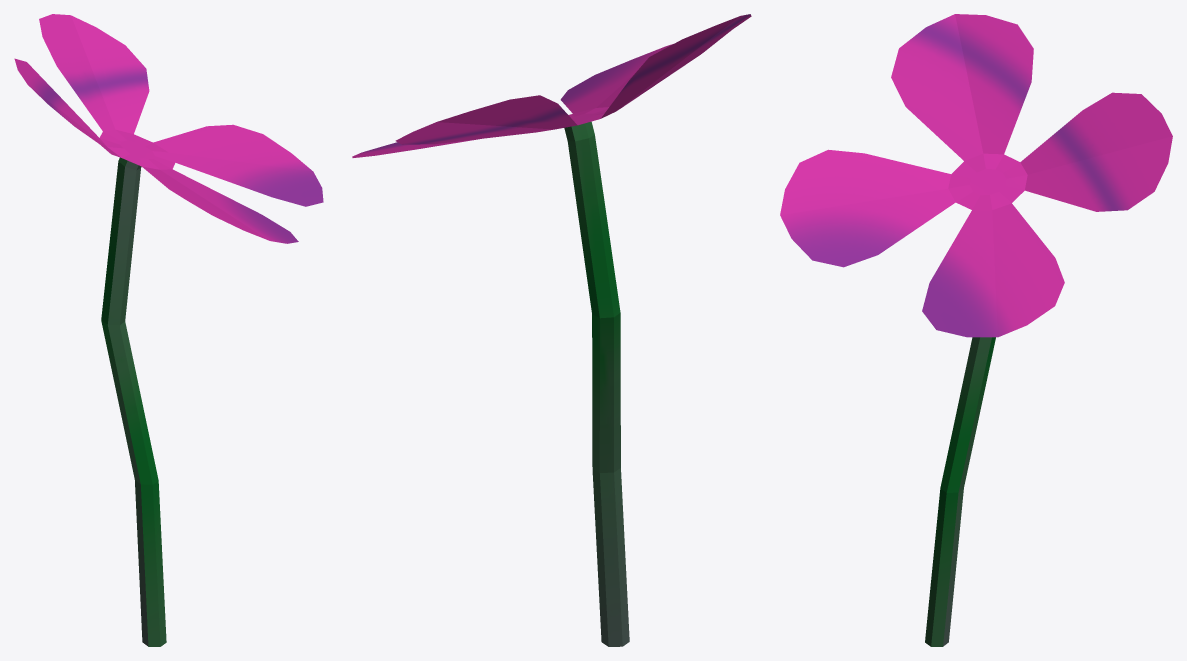
File: flower1.glb
3 renders of one model, left to right at view 1: azimuth 30°, elevation 25°; view 2: azimuth 150°, elevation 25°; view 3: azimuth 270°, elevation 25°, orthographic. The views are drawn at different scales.
Parts seen in each view (by area): view 1: Cylinder; view 2: Cylinder; view 3: Cylinder.
Part boxes in pixels (box(x1,y1,x2,y2)): Cylinder: box(14, 14, 323, 646); Cylinder: box(352, 14, 751, 646); Cylinder: box(780, 14, 1172, 646).
Bounding box in the file's own units: 0.1266 × 0.2288 × 0.1421.
1 material, 1 textured.
